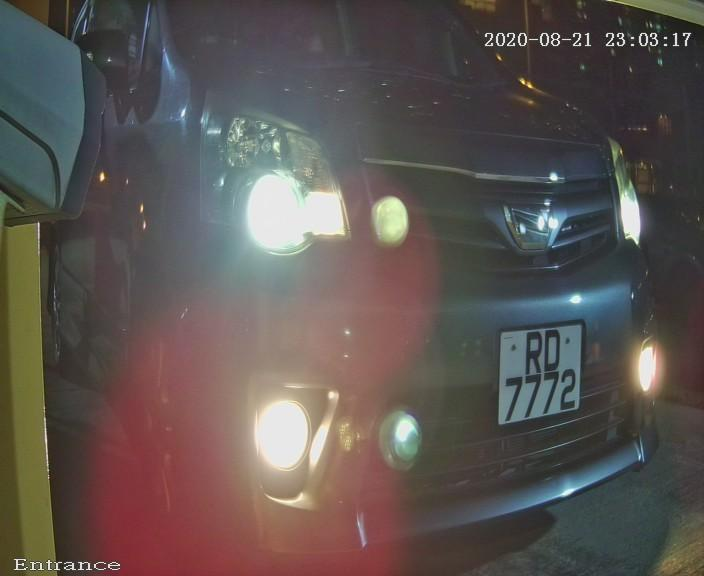License Plate: (485, 307, 595, 445)
